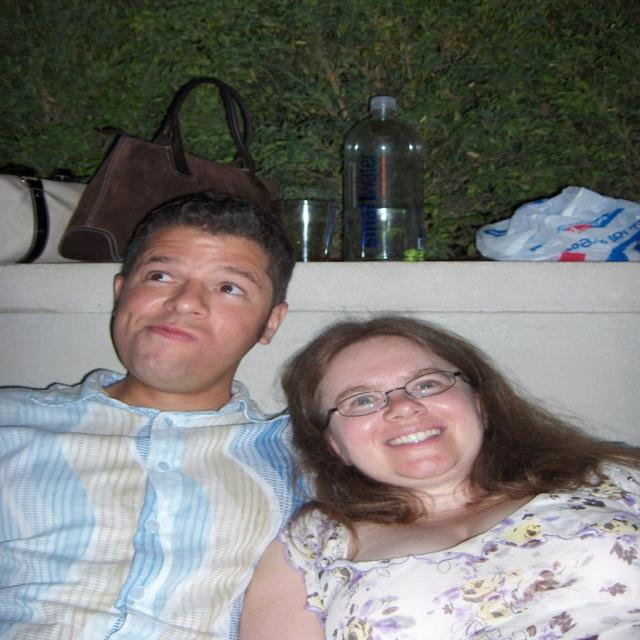Bottle: (339, 95, 425, 264)
